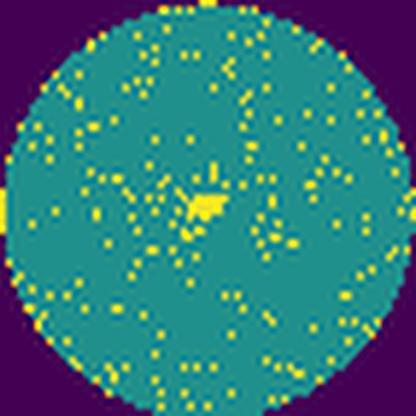Center: (184, 190, 230, 227)
